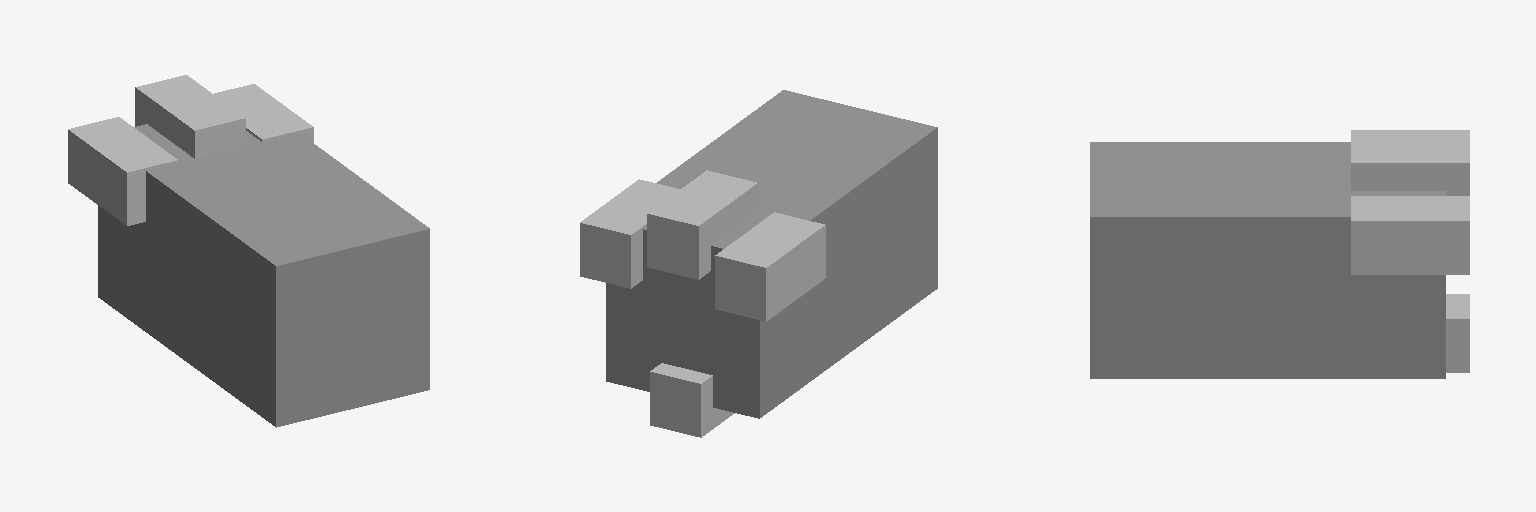
The model's file is glove.obj.
The picture shows the model from 3 angles: view 1: azimuth 30°, elevation 25°; view 2: azimuth 150°, elevation 25°; view 3: azimuth 270°, elevation 25°; orthographic projection.
Parts seen in each view (by area): view 1: Cube.001, Cube.004_Cube.005, Cube.002_Cube.003, Cube_Cube.002; view 2: Cube.001, Cube.004_Cube.005, Cube.002_Cube.003, Cube_Cube.002, Cube.003_Cube.006; view 3: Cube.001, Cube_Cube.002, Cube.002_Cube.003, Cube.003_Cube.006, Cube.004_Cube.005.
Part boxes in pixels (bbox=[...]): Cube.001: bbox=[98, 124, 429, 427]; Cube.004_Cube.005: bbox=[68, 117, 177, 225]; Cube.002_Cube.003: bbox=[135, 75, 245, 158]; Cube_Cube.002: bbox=[214, 84, 313, 142]; Cube.001: bbox=[606, 90, 937, 418]; Cube.004_Cube.005: bbox=[715, 212, 825, 321]; Cube.002_Cube.003: bbox=[647, 170, 757, 279]; Cube_Cube.002: bbox=[580, 179, 679, 288]; Cube.003_Cube.006: bbox=[650, 363, 734, 437]; Cube.001: bbox=[1090, 142, 1445, 378]; Cube_Cube.002: bbox=[1351, 196, 1469, 274]; Cube.002_Cube.003: bbox=[1351, 138, 1469, 195]; Cube.003_Cube.006: bbox=[1446, 294, 1469, 372]; Cube.004_Cube.005: bbox=[1351, 130, 1469, 137].
Size of the model in its own units: 0.3632 by 0.3926 by 0.64.